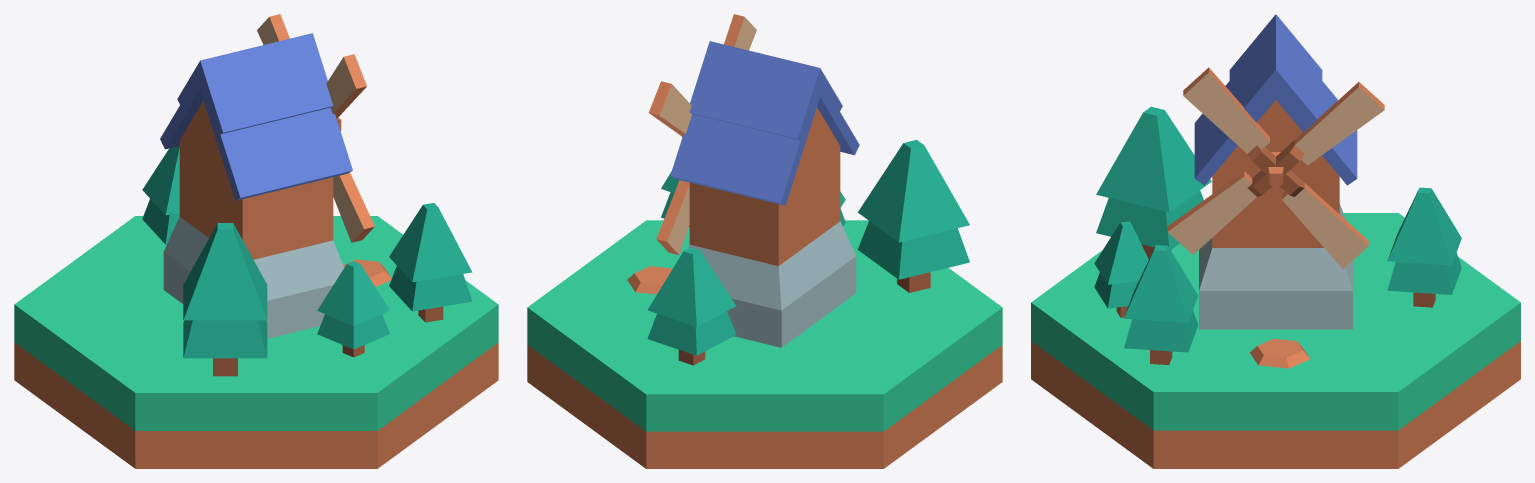
The model's file is building_mill.dae.
3 views of the same model, side by side, from view 1: azimuth 30°, elevation 25°; view 2: azimuth 150°, elevation 25°; view 3: azimuth 270°, elevation 25° (orthographic). The views are drawn at different scales.
Parts seen in each view (by area): view 1: building_mill, building, tree (×4), mill, path; view 2: building_mill, building, tree (×2), mill, path; view 3: building_mill, building, tree (×4), mill, path.
Part boxes in pixels (x1=…): building_mill: x1=14, y1=216, x2=498, y2=468; building: x1=160, y1=33, x2=352, y2=338; tree (×4): x1=142, y1=146, x2=472, y2=376; mill: x1=257, y1=14, x2=374, y2=242; path: x1=343, y1=259, x2=391, y2=286; building_mill: x1=527, y1=220, x2=1002, y2=468; building: x1=670, y1=41, x2=859, y2=347; tree (×2): x1=647, y1=139, x2=969, y2=365; mill: x1=648, y1=14, x2=756, y2=255; path: x1=627, y1=266, x2=672, y2=294; building_mill: x1=1031, y1=213, x2=1520, y2=468; building: x1=1194, y1=14, x2=1357, y2=329; tree (×4): x1=1094, y1=106, x2=1461, y2=364; mill: x1=1167, y1=67, x2=1384, y2=269; path: x1=1250, y1=338, x2=1310, y2=368.
Bounding box in the file's own units: 1 × 0.8811 × 1.15.
